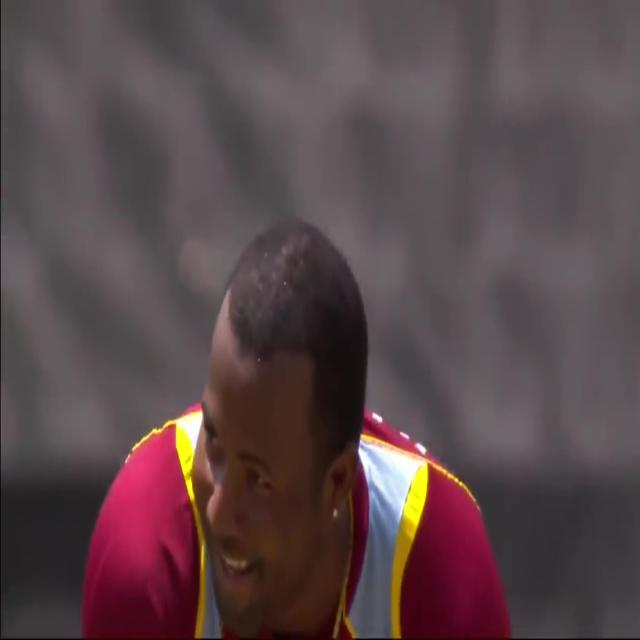Fielder: (45, 2, 556, 640)
